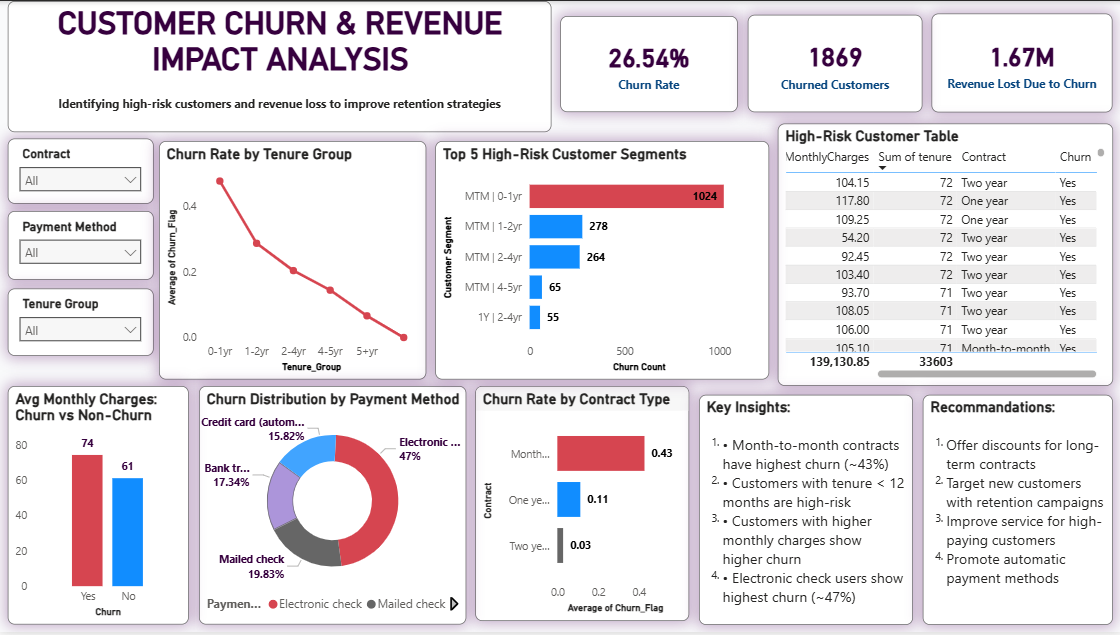

Layout of this report page (visuals, bound fields, positions):
{"tool":"powerbi","page":{"name":"Page 1","canvas":[1280,720],"ordinal":0},"visuals":[{"type":"card","fields":{"Values":["cleaned_churn.Churn Rate"]},"box":[640,17.1,202.4,109.8],"z":1000},{"type":"card","fields":{"Values":["cleaned_churn.Revenue Lost"]},"box":[1063.3,14.3,206.7,112.6],"z":2000},{"type":"slicer","fields":{"Values":["cleaned_churn.Contract"]},"box":[9.6,156.4,166,74.1],"z":4000},{"type":"slicer","fields":{"Values":["cleaned_churn.PaymentMethod"]},"box":[9.6,240.1,166,78.2],"z":5000},{"type":"slicer","fields":{"Values":["cleaned_churn.Tenure_Group"]},"box":[9.6,328,166,76.8],"z":6000},{"type":"clusteredBarChart","title":"Churn Rate by Contract Type","fields":{"Category":["cleaned_churn.Contract"],"Y":["Avg(cleaned_churn.Churn_Flag)"]},"box":[543.8,439,243.7,268],"z":7000},{"type":"lineChart","title":"Churn Rate by Tenure Group","fields":{"Y":["Avg(cleaned_churn.Churn_Flag)"],"Category":["cleaned_churn.Tenure_Group"]},"box":[182.4,159.6,305,272.2],"z":8000},{"type":"donutChart","title":"Churn Distribution by Payment Method","fields":{"Category":["cleaned_churn.PaymentMethod"],"Y":["Avg(cleaned_churn.Churn_Flag)"]},"box":[227.7,439,305,272.2],"z":10000},{"type":"tableEx","title":"High-Risk Customer Table","fields":{"Values":["cleaned_churn.CustomerID","Sum(cleaned_churn.MonthlyCharges)","Sum(cleaned_churn.tenure)","cleaned_churn.Contract","cleaned_churn.Churn"]},"box":[888,139.7,382,299.3],"z":11000},{"type":"textbox","title":"Key Insights:","box":[798.6,449,243.7,262.3],"z":12000},{"type":"textbox","title":"CUSTOMER CHURN & REVENUE IMPACT ANALYSIS","box":[10,0,620,149.7],"z":13000},{"type":"textbox","title":"Recommandations:","box":[1053.4,449,216.7,262.3],"z":13001},{"type":"card","fields":{"Values":["cleaned_churn.Churned Customers"]},"box":[853.8,15.7,199.6,111.2],"z":13002},{"type":"clusteredColumnChart","title":"Avg Monthly Charges: Churn vs Non-Churn","fields":{"Category":["cleaned_churn.Churn"],"Y":["Avg(cleaned_churn.MonthlyCharges)"]},"box":[10,439,206.7,272.2],"z":13003},{"type":"clusteredBarChart","title":"Top 5 High-Risk Customer Segments","fields":{"Y":["cleaned_churn.Churn Count"],"Category":["cleaned_churn.Short Segment"]},"box":[497.5,159.6,380.6,272.2],"z":13004}]}

Visuals, with their boxes in screenshot pixels (x1, y1, x2, y2), scaled from the page's 1280x720 canvas onto the 1120x635 screenshot:
card - cleaned_churn.Churn Rate: bbox=(560, 15, 737, 112)
card - cleaned_churn.Revenue Lost: bbox=(930, 13, 1111, 112)
slicer - cleaned_churn.Contract: bbox=(8, 138, 154, 203)
slicer - cleaned_churn.PaymentMethod: bbox=(8, 212, 154, 281)
slicer - cleaned_churn.Tenure_Group: bbox=(8, 289, 154, 357)
"Churn Rate by Contract Type" clusteredBarChart: bbox=(476, 387, 689, 624)
"Churn Rate by Tenure Group" lineChart: bbox=(160, 141, 426, 381)
"Churn Distribution by Payment Method" donutChart: bbox=(199, 387, 466, 627)
"High-Risk Customer Table" tableEx: bbox=(777, 123, 1111, 387)
"Key Insights:" textbox: bbox=(699, 396, 912, 627)
"CUSTOMER CHURN & REVENUE IMPACT ANALYSIS" textbox: bbox=(9, 0, 551, 132)
"Recommandations:" textbox: bbox=(922, 396, 1111, 627)
card - cleaned_churn.Churned Customers: bbox=(747, 14, 922, 112)
"Avg Monthly Charges: Churn vs Non-Churn" clusteredColumnChart: bbox=(9, 387, 190, 627)
"Top 5 High-Risk Customer Segments" clusteredBarChart: bbox=(435, 141, 768, 381)
